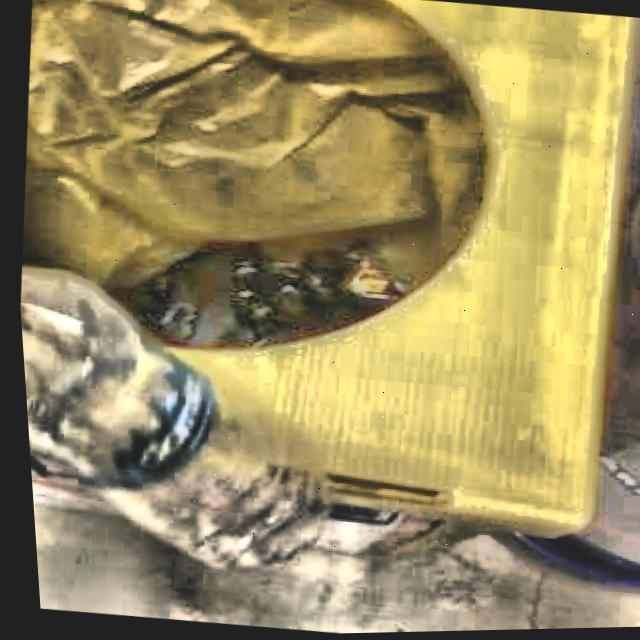plastic: (16, 269, 324, 570)
